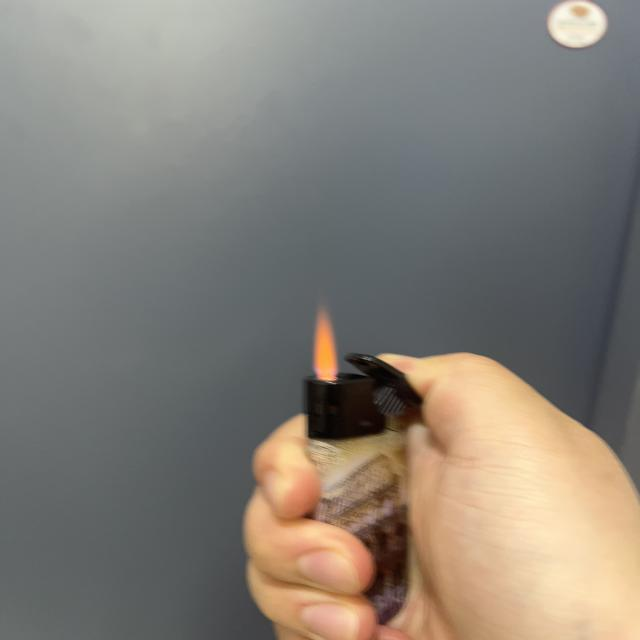fire: (309, 295, 342, 381)
